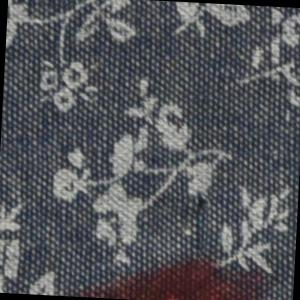Stain: (59, 240, 278, 300)
